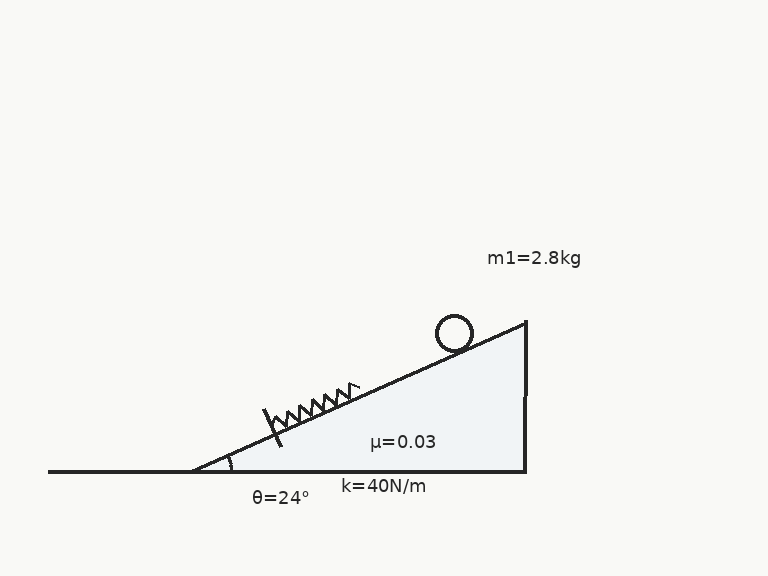ball: (433, 312, 475, 354)
ramp: (189, 320, 528, 473)
spring: (269, 381, 360, 428)
